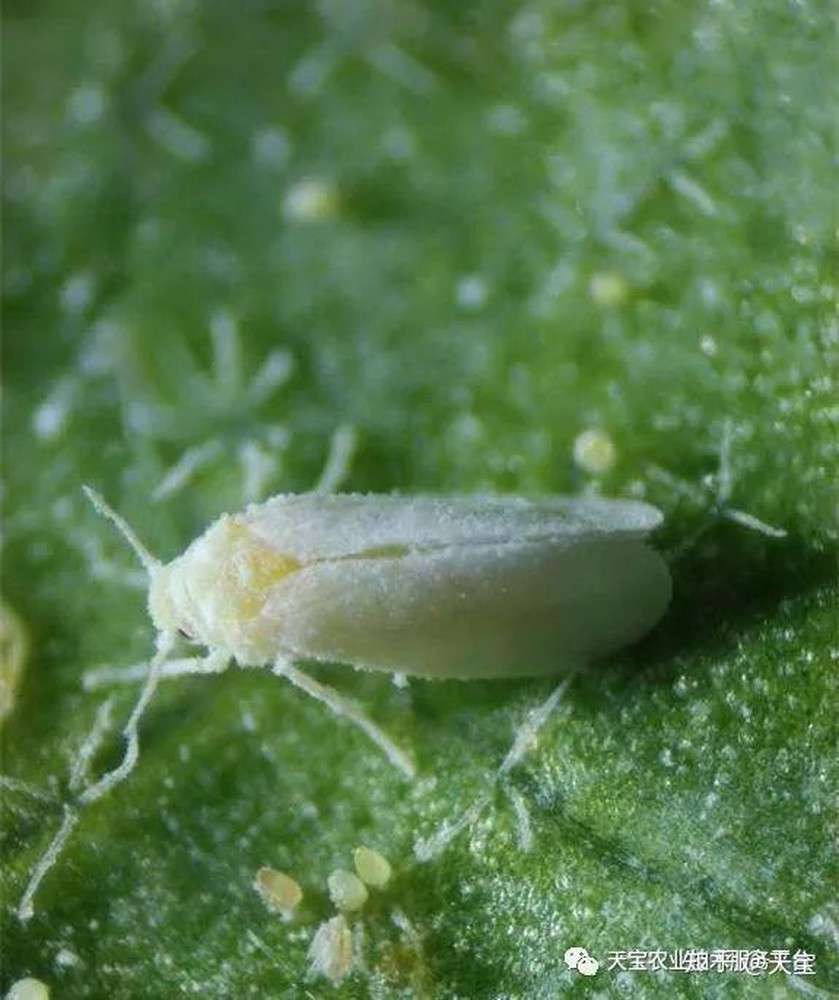Mosca Blanca: (65, 436, 701, 802)
